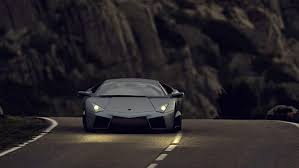Lamborghini: (87, 79, 180, 130)
